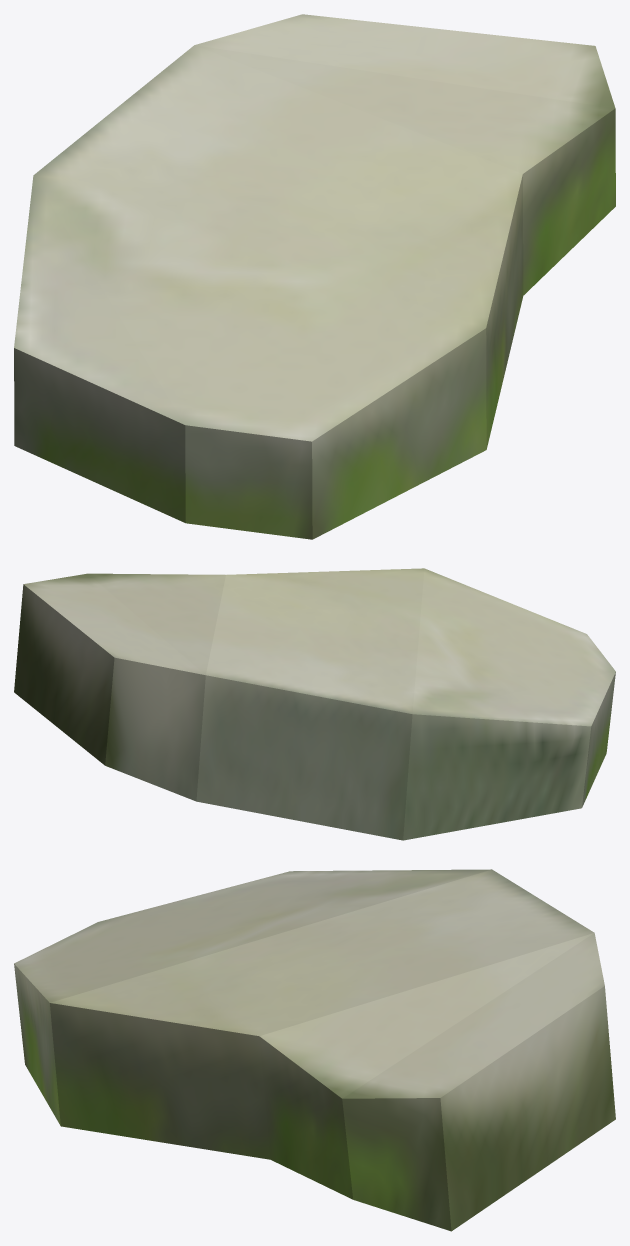
Rendered from sucai_23.FBX.
3 renders of one model, top to bottom at view 1: azimuth 30°, elevation 25°; view 2: azimuth 150°, elevation 25°; view 3: azimuth 270°, elevation 25°, orthographic. The views are drawn at different scales.
Visible parts, largest first — view 1: sucai_23; view 2: sucai_23; view 3: sucai_23.
Part boxes in pixels (bbox=[...]): sucai_23: bbox=[14, 14, 615, 539]; sucai_23: bbox=[14, 568, 615, 840]; sucai_23: bbox=[14, 869, 615, 1231].
Bounding box in the file's own units: 99.94 × 32.78 × 82.67.
